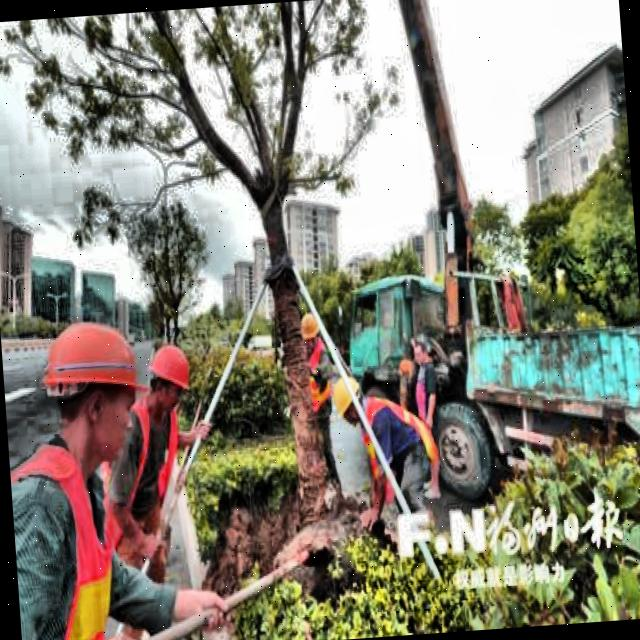helmet: (36, 318, 156, 466), (144, 340, 193, 420), (328, 372, 369, 428), (296, 309, 322, 352)
